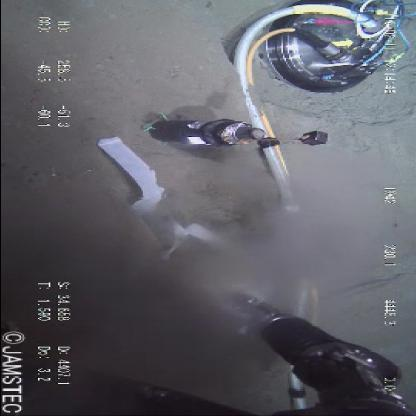Rov: (218, 288, 414, 416), (224, 0, 414, 94), (136, 115, 338, 154)
Rác: (96, 136, 242, 300)
